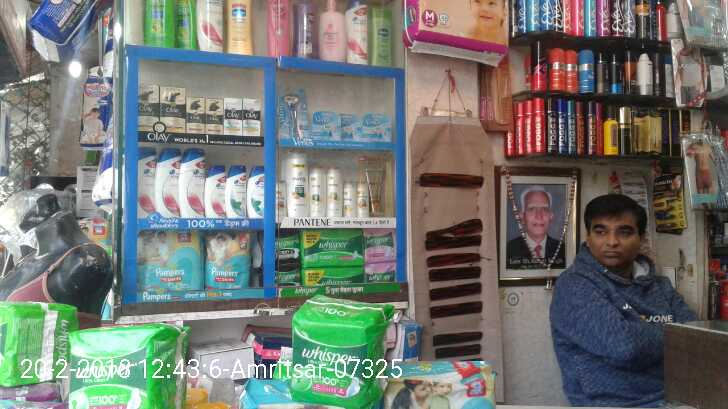venus: (279, 87, 312, 137), (361, 113, 392, 140), (312, 113, 344, 137), (344, 113, 361, 140)
